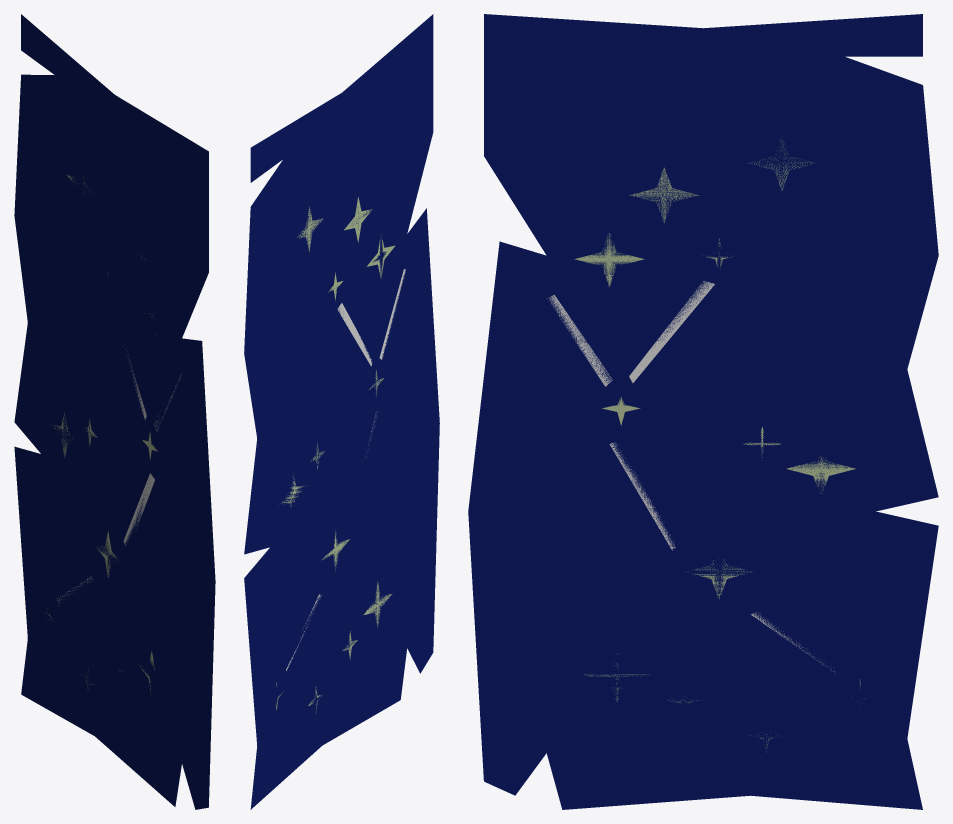
Rendered from obj_star_chart_2_0.obj.
3 renders of one model, left to right at view 1: azimuth 30°, elevation 25°; view 2: azimuth 150°, elevation 25°; view 3: azimuth 270°, elevation 25°, orthographic. The views are drawn at different scales.
Size of the model in its own units: 0 by 1.75 by 0.9375.
